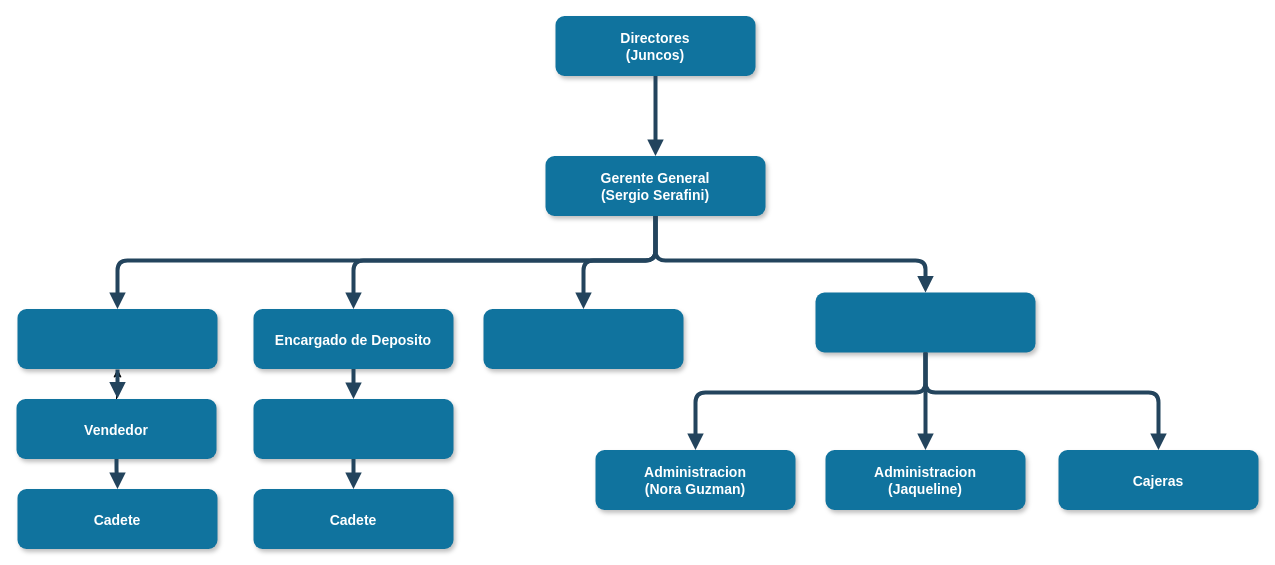
Some shapes in this 1275 by 565 pixel diagram are drawn without their labels. Here are the shapes that lost their labels. From the top down, the centre of each, then its label:
At point 118,340: "Encargado de Sucursal".
At point 584,340: "Administración de Compras".
At point 926,323: "Jefe de Administración Gabriela Pesqueira".
At point 354,430: "Personal de deposito".
